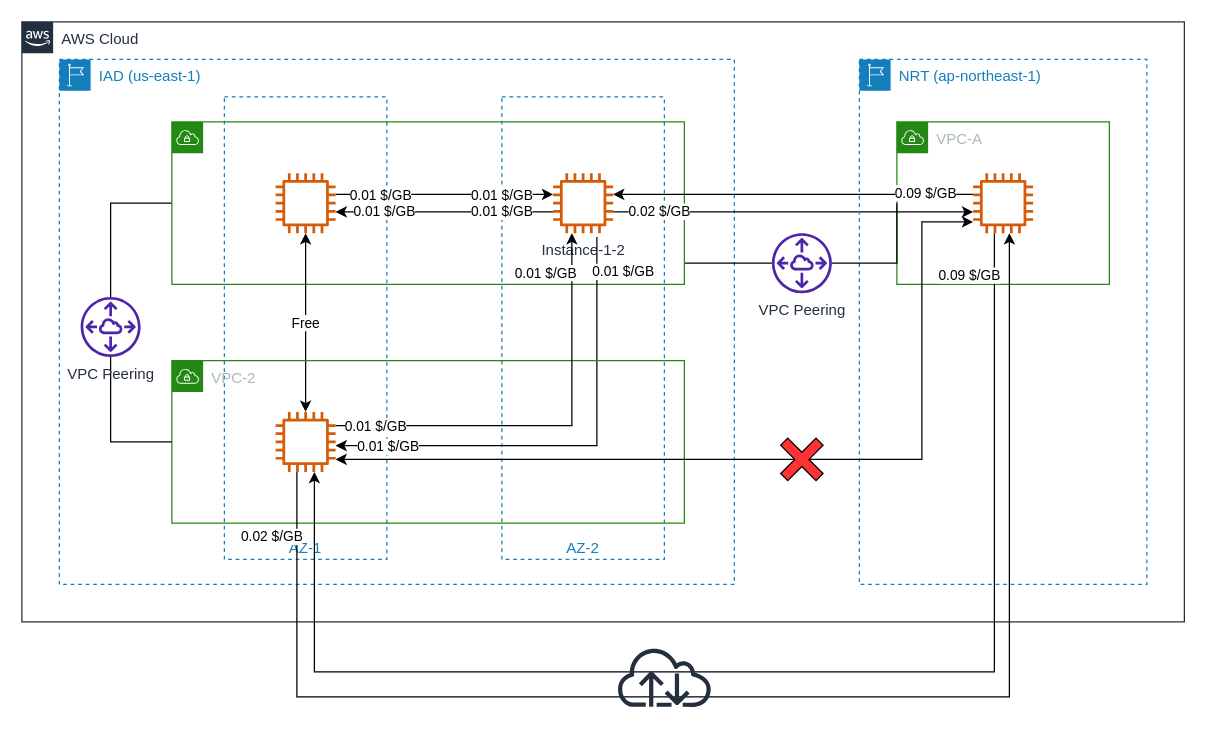
The diagram is 1206 pixels wide and 755 high, and some of its shapes have lost their labels. The shapes that lost their labels are listed below. From the top down, each one's centre as x and y in pixels, then its label:
At [305,202]: "Instance-1-1".
At [427,202]: "VPC-1".
At [1002,202]: "Instance-A-1".
At [305,441]: "Instance-2-1".
At [663,676]: "Internet".
